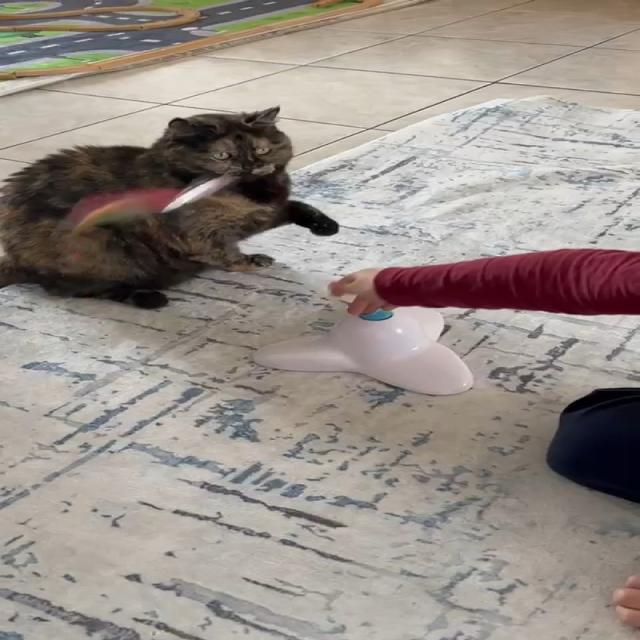authorized: (0, 104, 339, 310)
